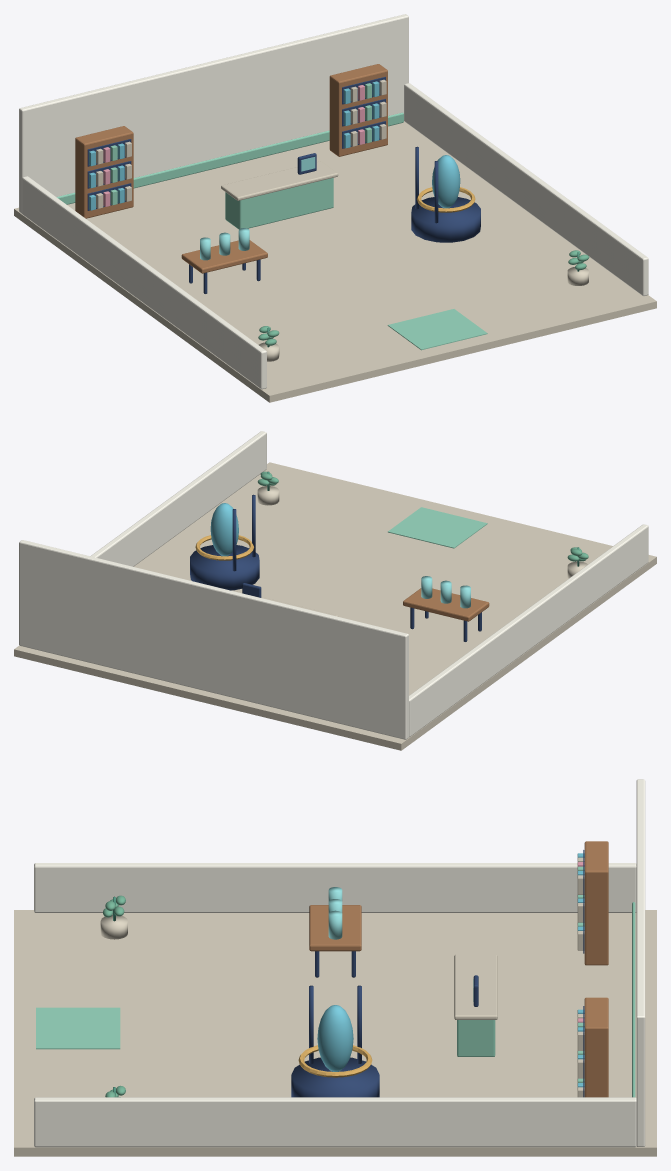
Rendered from dream_lab-interior.glb.
3 renders of one model, top to bottom at view 1: azimuth 30°, elevation 25°; view 2: azimuth 150°, elevation 25°; view 3: azimuth 270°, elevation 25°, orthographic. The views are drawn at different scales.
Visible parts, largest first — view 1: dream_lab · furnished cutaway interior; view 2: dream_lab · furnished cutaway interior; view 3: dream_lab · furnished cutaway interior.
Boxes of the visible parts, box(x1,y1,x2,y2) form: dream_lab · furnished cutaway interior: box(14, 14, 656, 402); dream_lab · furnished cutaway interior: box(14, 431, 656, 750); dream_lab · furnished cutaway interior: box(14, 779, 656, 1156).
Size of the model in its own units: 14.02 by 3.84 by 16.
